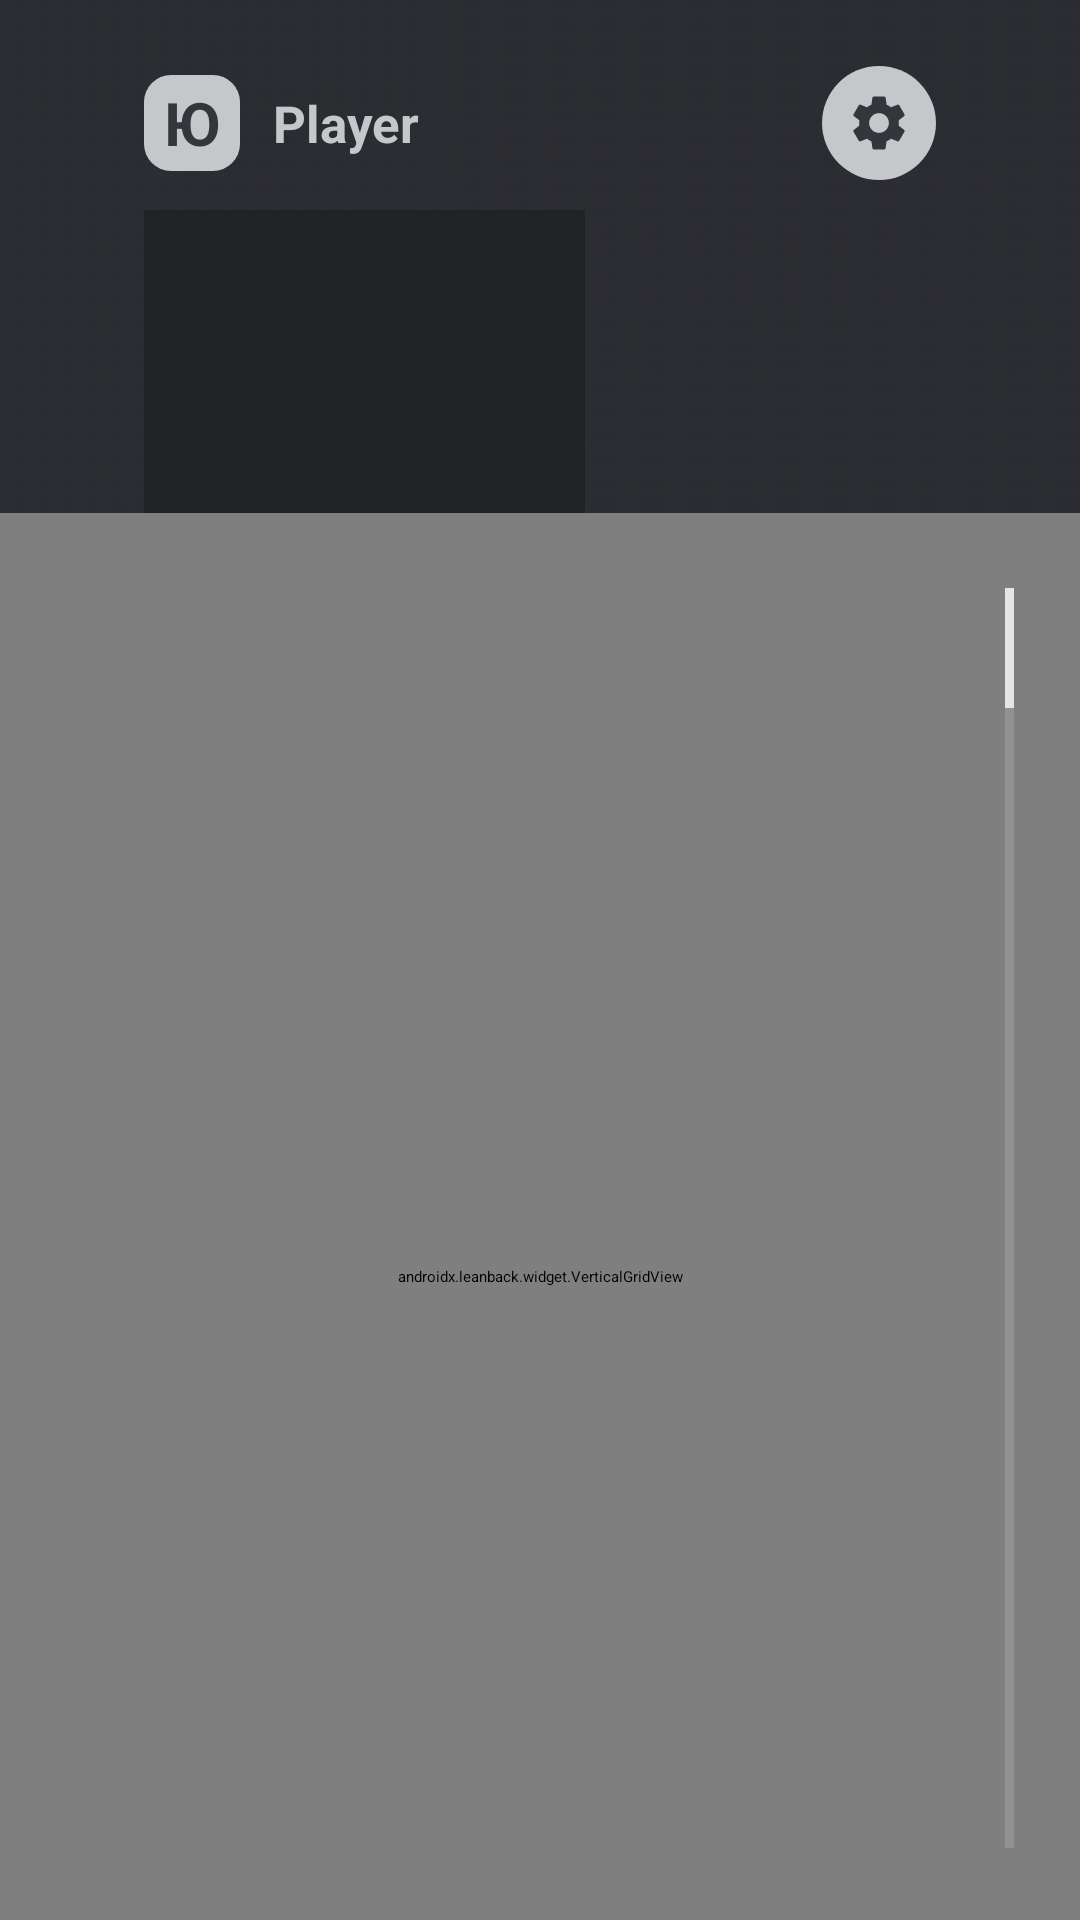

Where icons sit on this 1080×1920 app screen, as (x1=x1, y1=y1, x2=x2, y2=y2):
Настройки: (x1=822, y1=66, x2=936, y2=180)
